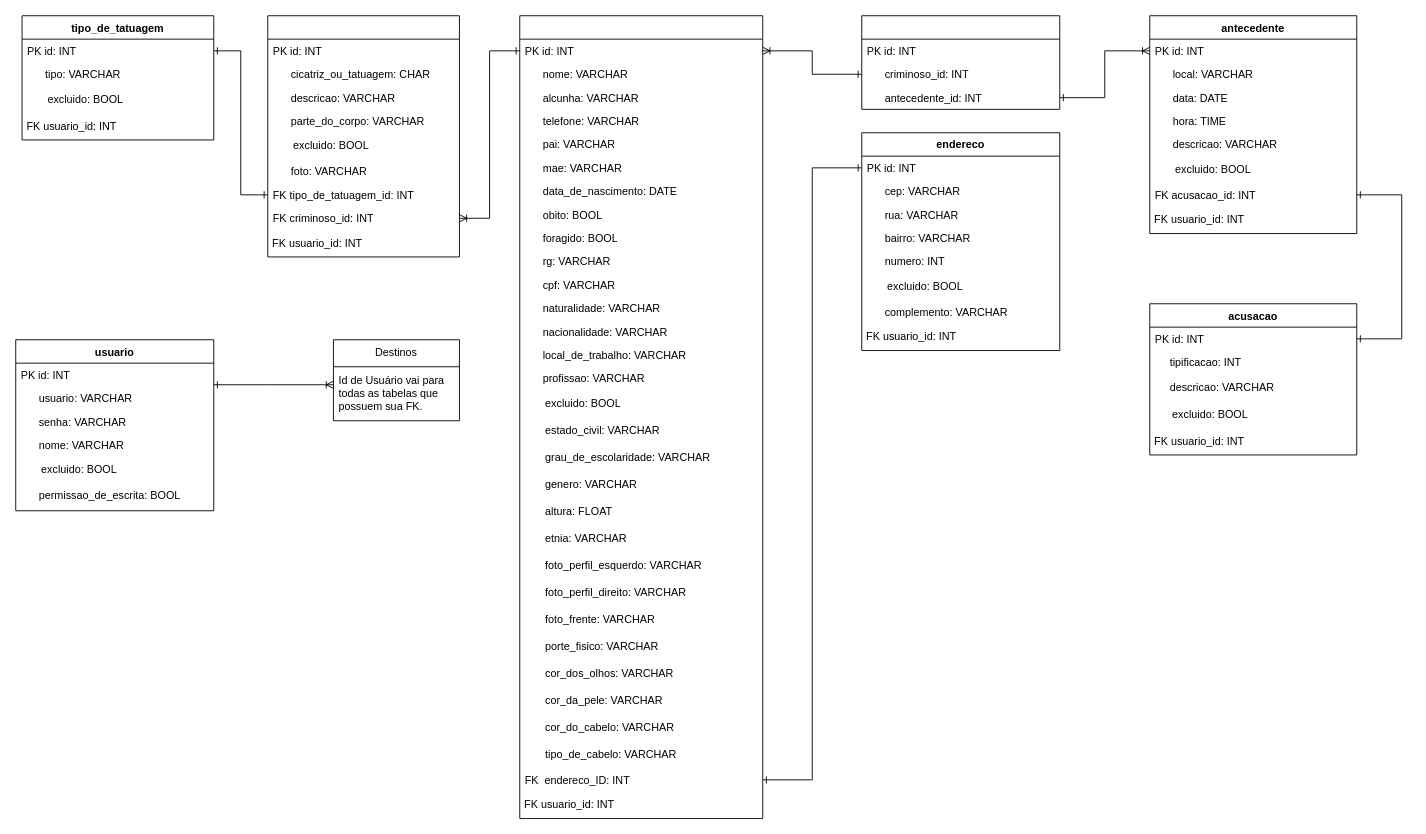
The diagram is 1426 pixels wide and 834 high, and some of its shapes have lost their labels. The box of each missing label's shape, as (x1, y1, x2, y2) in pixels:
criminoso: (519, 15, 763, 819)
criminoso_antecedente: (861, 15, 1060, 109)
marca: (267, 15, 459, 257)
